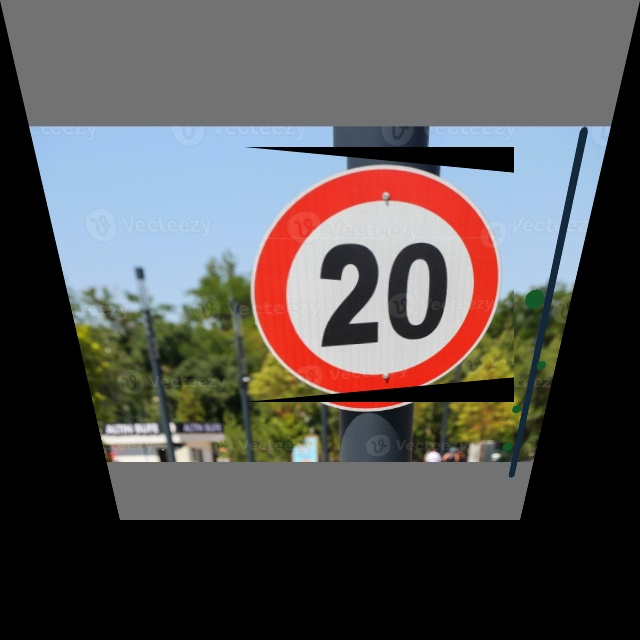Speed_Limit_20: (244, 147, 514, 402)
